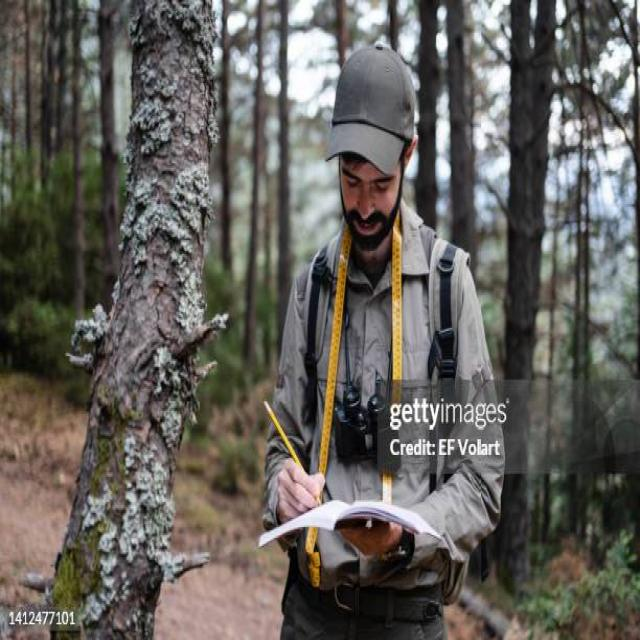ranger: (270, 10, 516, 612)
